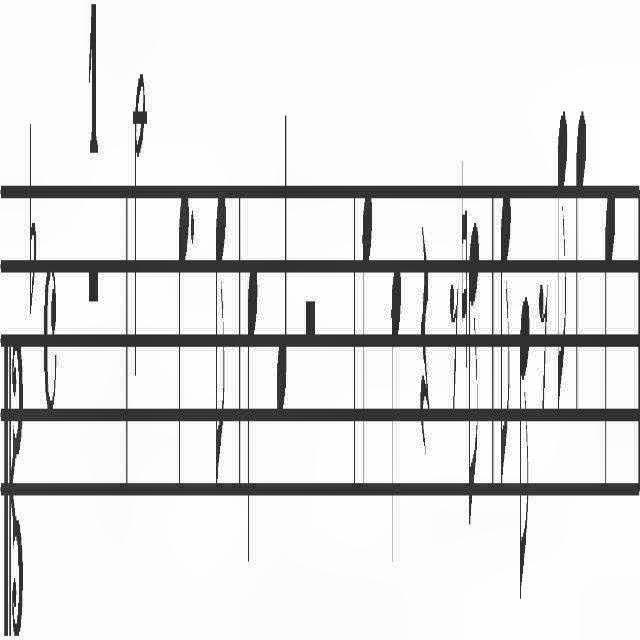Bemol: (28, 114, 36, 318)
Eighth-note: (556, 98, 568, 430), (468, 212, 480, 534), (519, 298, 531, 610), (214, 181, 226, 489), (501, 178, 512, 506)
Eighth-rest: (539, 272, 549, 416), (450, 276, 458, 412)
Half-note: (134, 63, 146, 384)
Quarter-note: (276, 98, 288, 422), (575, 101, 587, 419), (390, 260, 402, 568), (604, 188, 616, 492), (246, 261, 258, 563), (179, 184, 189, 512), (362, 181, 372, 489)
Quarter-rest: (419, 220, 429, 464)
